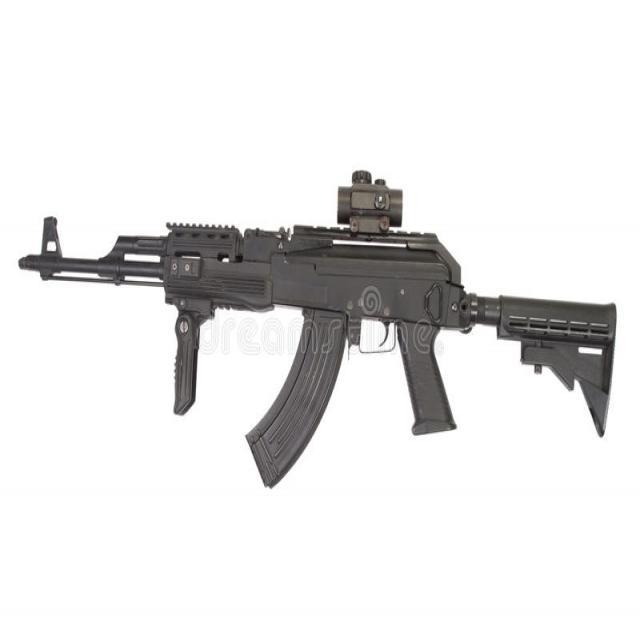weapon: (19, 168, 617, 489)
